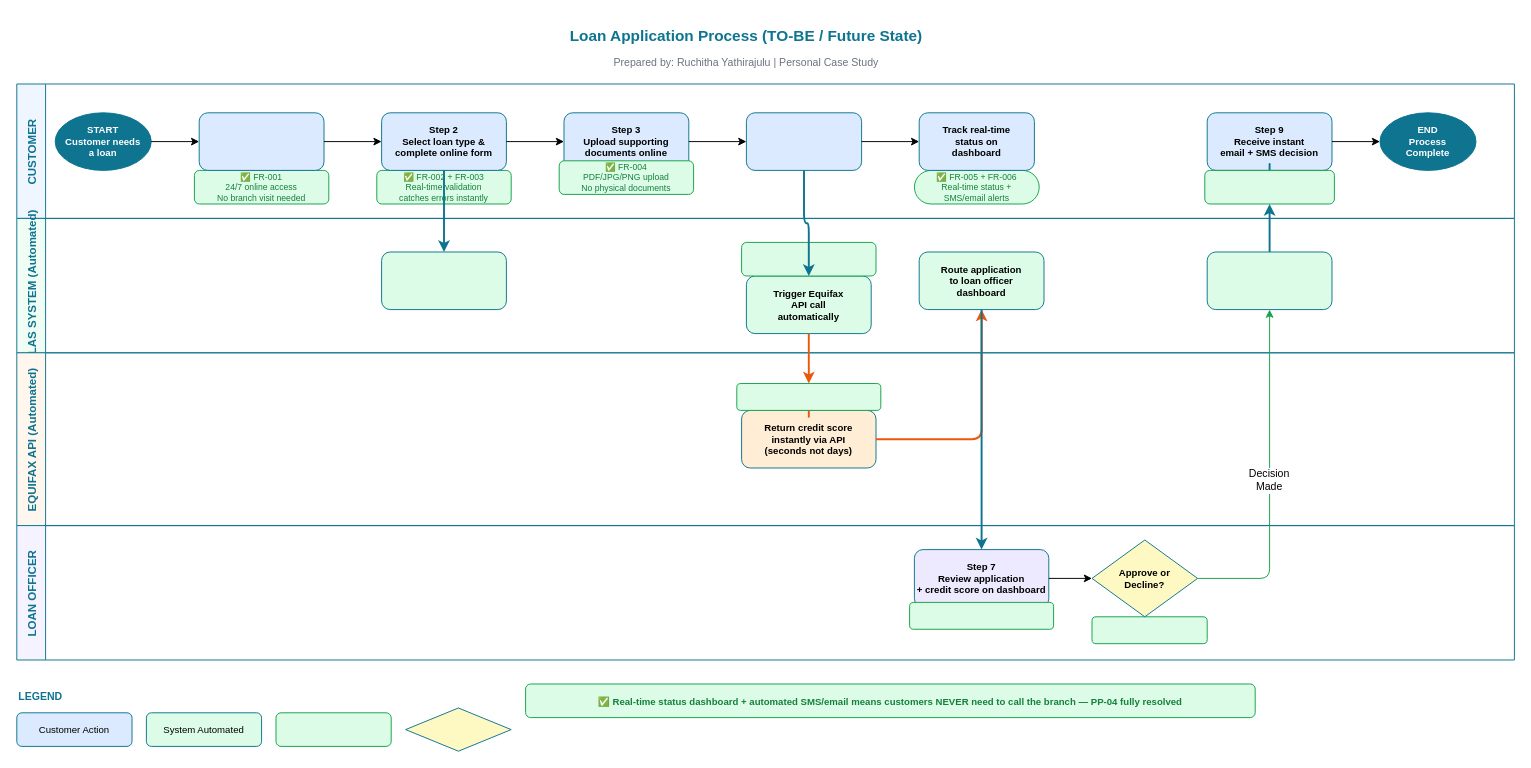
Some shapes in this 1531 by 768 pixel diagram are drawn without their labels. The centre of each missing label's shape, as x and y in pixels:
Auto-validate form data in real-time: pixel 443 280
Decision Point: pixel 458 729
Send instant email + SMS notification: pixel 1269 280
Step 1 Register account online (email + password): pixel 261 141
Step 4 Submit application online: pixel 803 141
✅ Fixes PP-03 2–3 day wait eliminated: pixel 808 396
✅ FR-006 Same-day notification No mail delay: pixel 1269 186
✅ FR-007 + FR-008 All info in one dashboard: pixel 981 615
✅ FR-008 Instant API call replaces phone/fax: pixel 808 258
✅ FR-009 Mandatory reason field: pixel 1149 630
✅ Improvement: pixel 333 729
